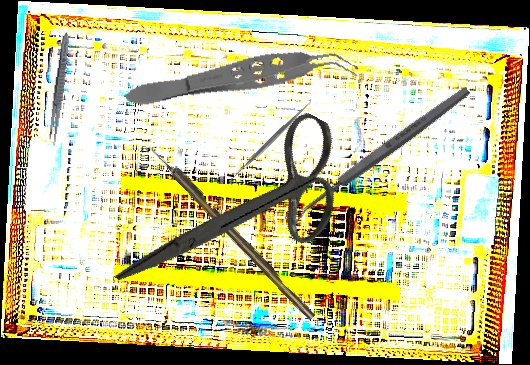Dressing Forceps: (47, 31, 72, 147)
Hook Surgical: (146, 141, 317, 322)
Iris Scissors: (111, 67, 371, 355)
Spatula Surgical: (223, 96, 318, 187)
Surgical Spoon: (282, 83, 473, 228)
Tissue Forceps: (122, 38, 361, 118)
